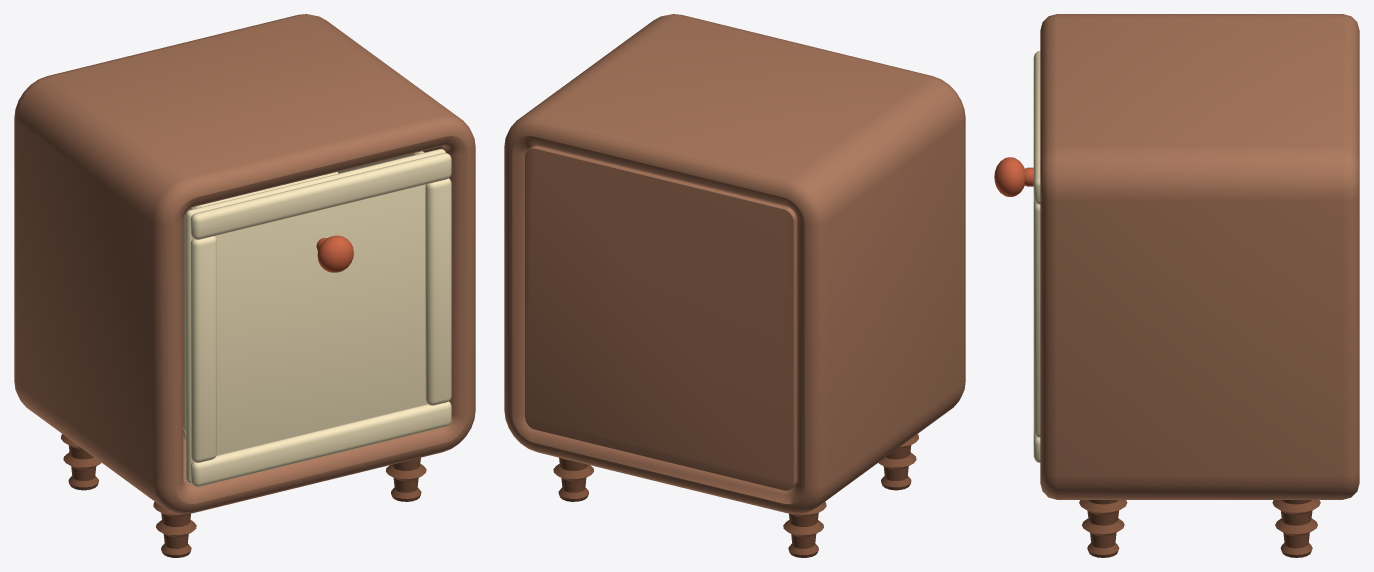
File: criado_basculante_marrom.glb
The picture shows the model from 3 angles, left to right: view 1: azimuth 30°, elevation 25°; view 2: azimuth 150°, elevation 25°; view 3: azimuth 270°, elevation 25°; orthographic projection. The views are drawn at different scales.
Parts seen in each view (by area): view 1: criado_basculante_marrom, cesto; view 2: criado_basculante_marrom; view 3: criado_basculante_marrom, cesto.
Boxes of the visible parts, x1,y1,x2,y2 form: criado_basculante_marrom: (14,14,475,557); cesto: (183,149,451,486); criado_basculante_marrom: (504,14,965,557); criado_basculante_marrom: (1040,14,1359,557); cesto: (994,51,1040,462).
Bounding box in the file's own units: 0.46 × 0.54 × 0.4346.
1 material, 1 textured.
